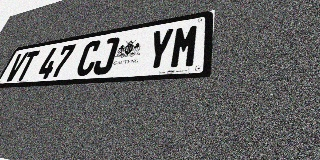4: (35, 46, 62, 79)
7: (49, 44, 76, 78)
C: (74, 40, 103, 76)
J: (91, 37, 120, 75)
M: (169, 23, 200, 69)
T: (14, 50, 40, 81)
V: (4, 52, 29, 82)
Y: (144, 27, 175, 71)
